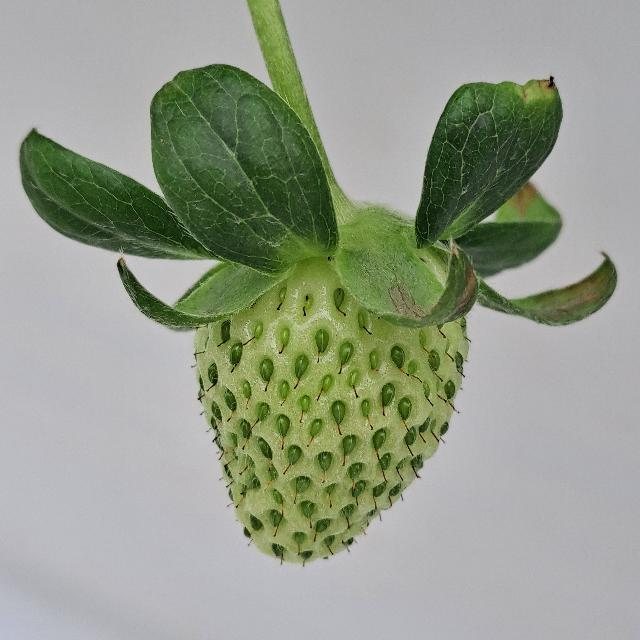Health_25: (194, 249, 468, 563)
